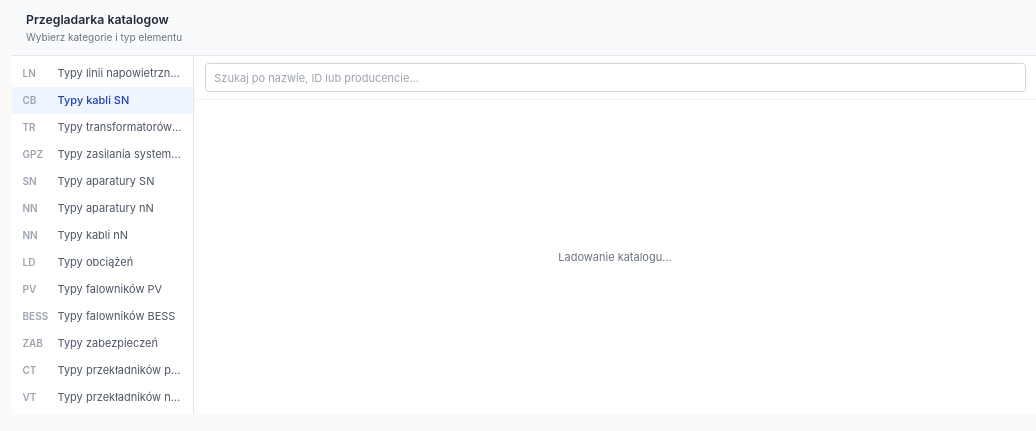
Test: CatalogBrowser › pobiera katalog dla przekladnikow pradowych zamiast blokowac namespace
The image size is (1036, 431).
Click the button "CT Typy przekładników prądowych" at point(102, 370), box [12,357,193,384]
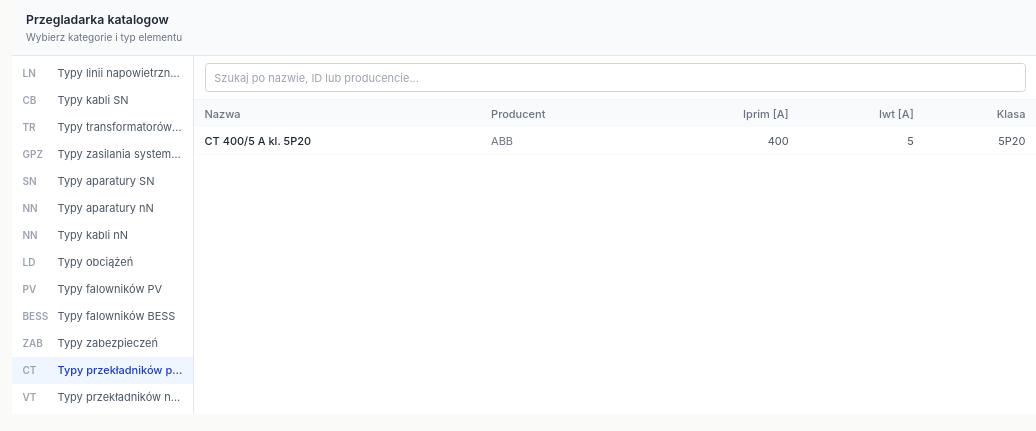
Expected: the text "CT 400/5 A kl. 5P20" is shown, [194,127,481,155]
Expected: the text "ABB" is shown, [481,127,650,155]
